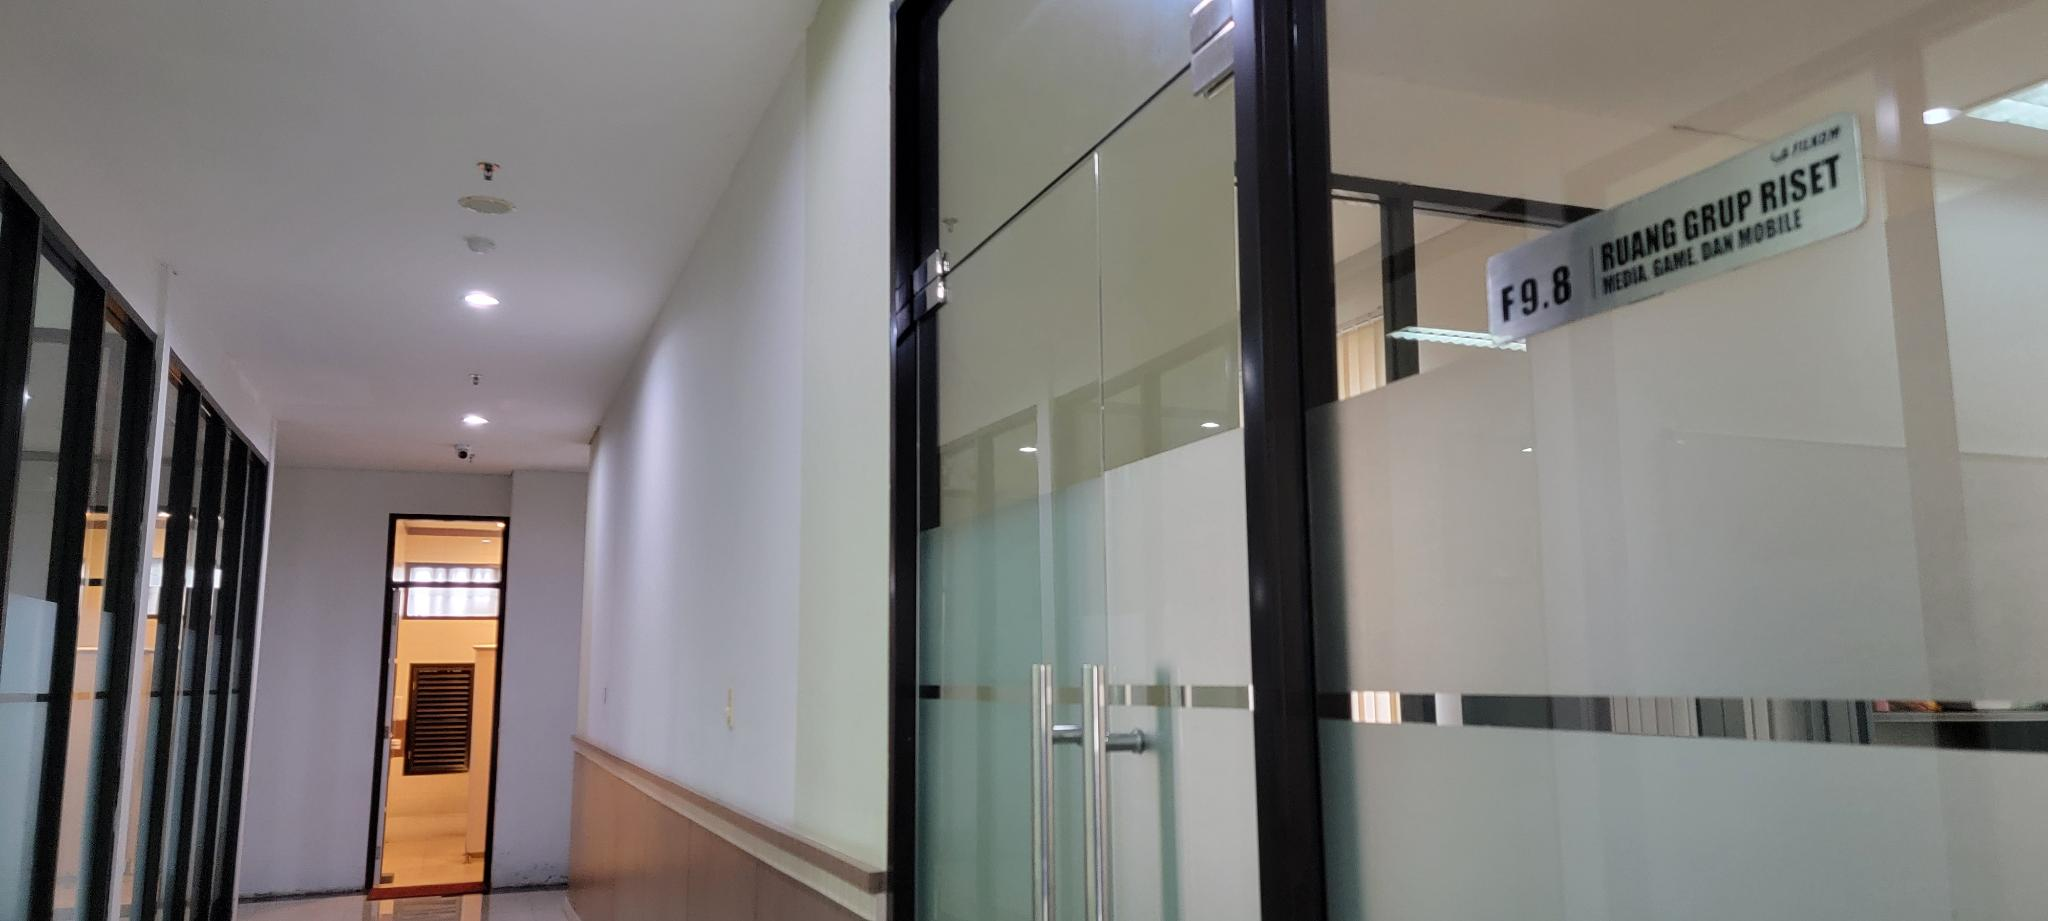plate: (1481, 107, 1873, 351)
